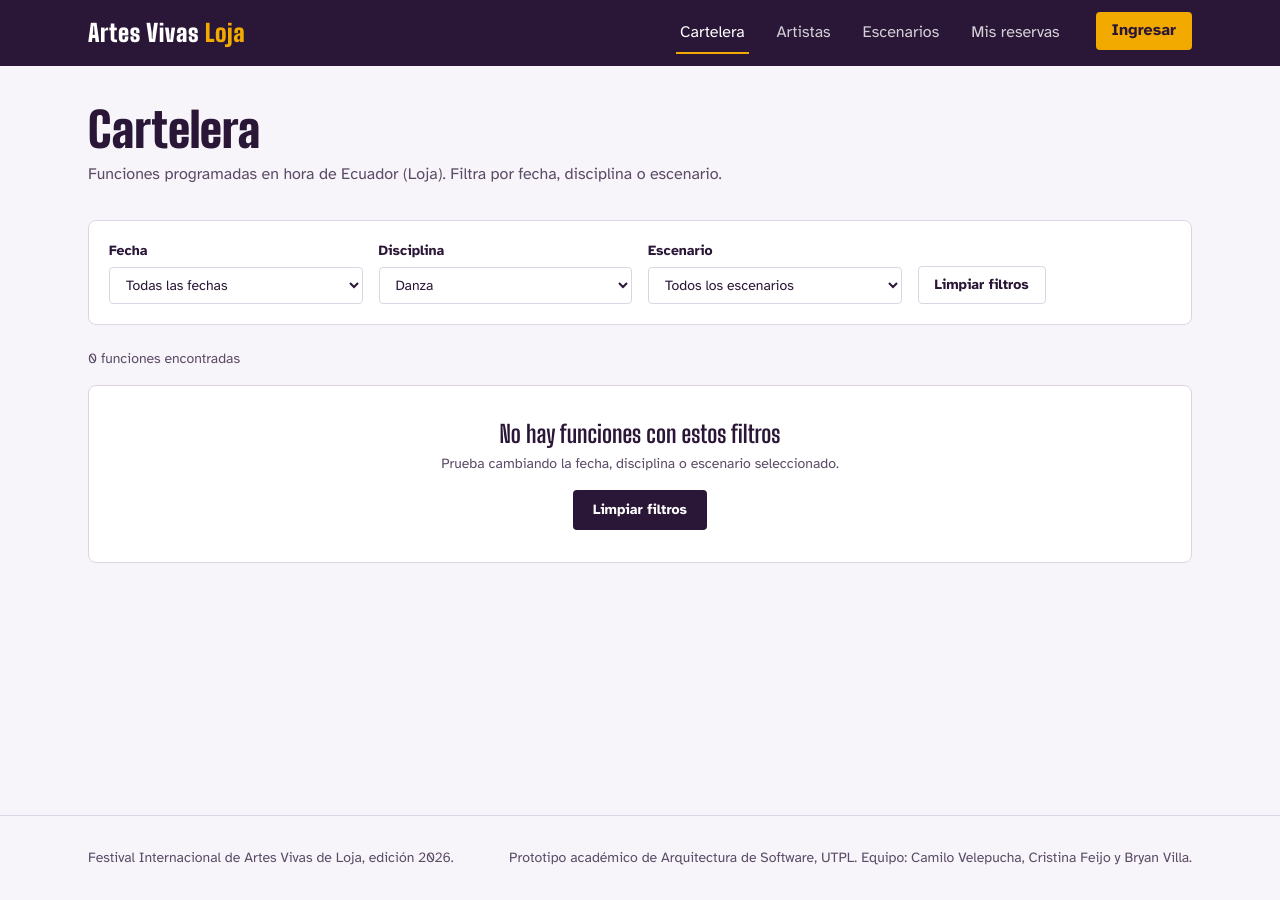
Test: ProgramPage (/cartelera) › muestra estado vacío y permite limpiar filtros cuando no hay resultados
The width and height of the screenshot is (1280, 900).
Expected: the text "No hay funciones con estos filtros" is shown, [500, 419, 780, 448]
Click the button "Limpiar filtros" below "No hay funciones con estos filtros" at coordinates (640, 510), box [573, 490, 707, 530]
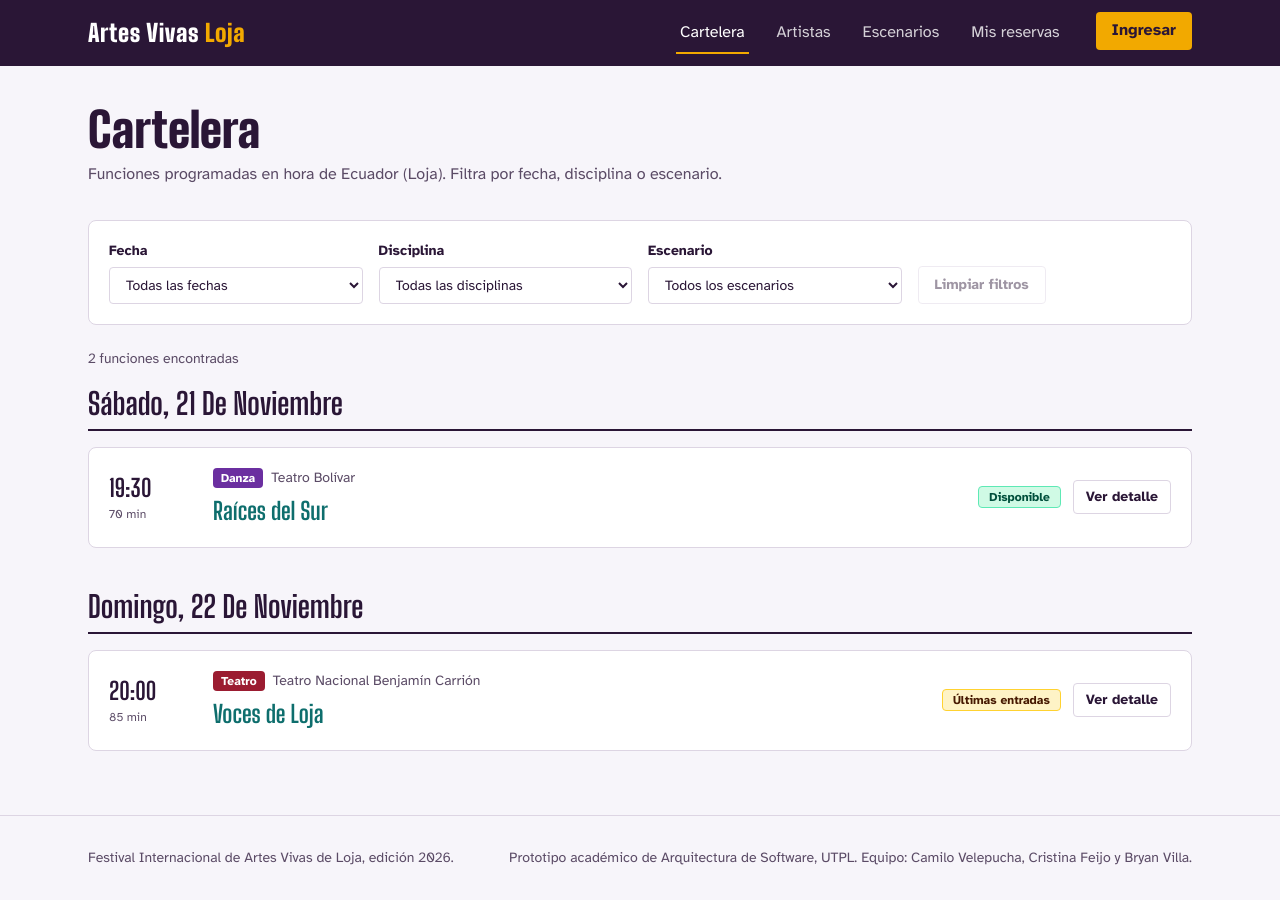
Result: the link "Raíces del Sur" is shown at [213, 496, 328, 525]
